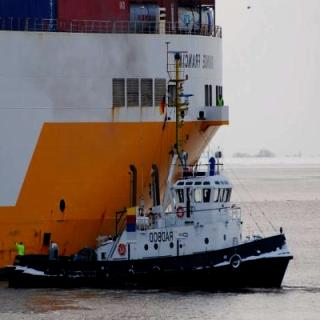Tug Boat: (7, 56, 292, 282)
